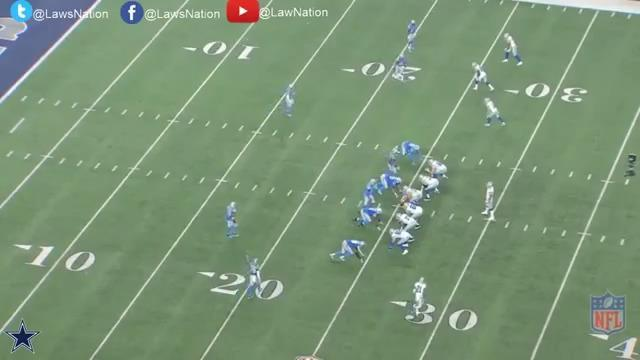defense: (328, 238, 367, 264), (245, 257, 264, 302), (225, 200, 242, 244), (352, 206, 383, 230), (395, 140, 422, 167), (279, 84, 299, 120), (382, 144, 402, 176), (359, 179, 380, 209), (376, 174, 404, 196), (406, 18, 420, 53), (394, 52, 407, 84)
oline: (395, 212, 416, 245), (404, 200, 424, 230), (419, 174, 441, 201), (426, 158, 449, 182), (400, 185, 424, 206)
qb: (481, 178, 499, 222)
skill: (500, 31, 524, 70), (482, 96, 508, 131), (410, 276, 428, 321), (471, 61, 496, 93), (384, 228, 409, 257)
